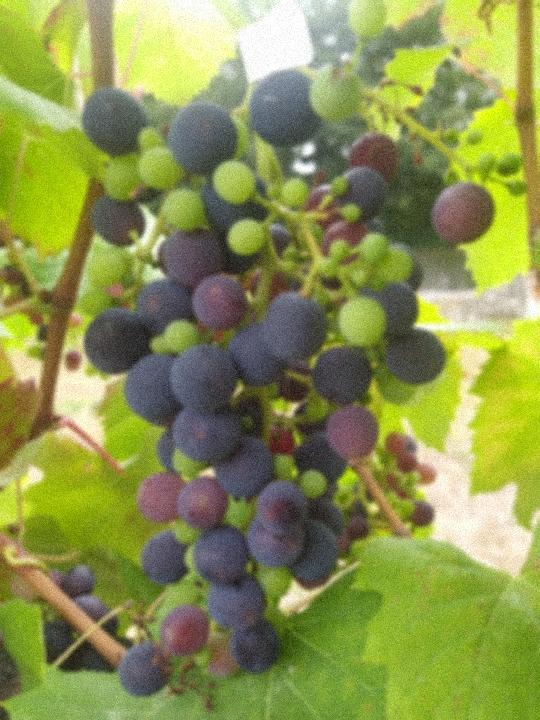grape: (82, 7, 527, 712)
